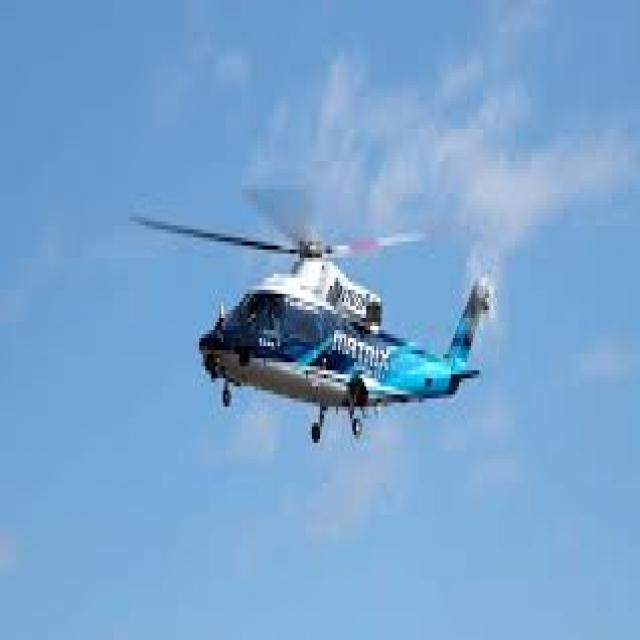plane: (126, 164, 512, 465)
